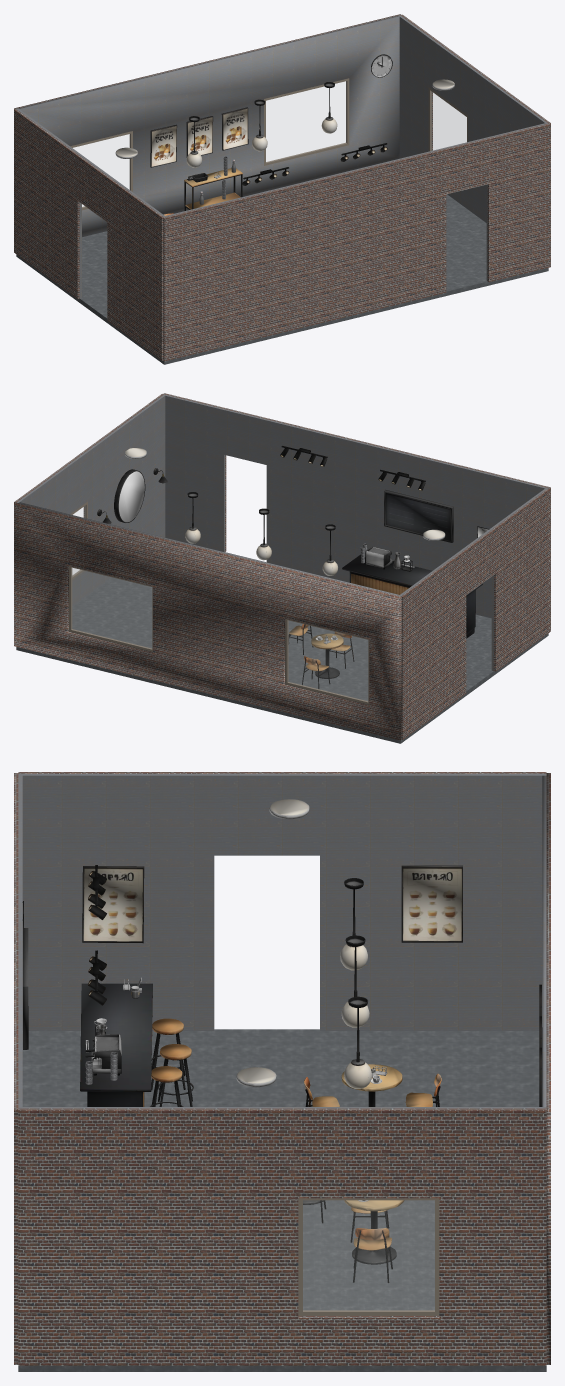
File: scene_named.glb
3 views of the same model, one above another, from view 1: azimuth 30°, elevation 25°; view 2: azimuth 150°, elevation 25°; view 3: azimuth 270°, elevation 25° (orthographic). The views are drawn at different scales.
Visible parts, largest first — view 1: south_wall_exterior_cafe/south_wall_exterior_cafe/geometry_0, north_wall_cafe/north_wall_cafe/geometry_0, west_wall_exterior_cafe/west_wall_exterior_cafe/geometry_0, east_wall_cafe/east_wall_cafe/geometry_0, floor_cafe, window_2_cafe/window_2_cafe/glass, window_3_cafe/window_3_cafe/glass, window_1_cafe/window_1_cafe/glass, art_print_0, art_print_2, art_print_1, window_2_cafe/window_2_cafe/frame (+5 smaller); view 2: north_wall_exterior_cafe/north_wall_exterior_cafe/geometry_0, south_wall_cafe/south_wall_cafe/geometry_0, west_wall_exterior_cafe/west_wall_exterior_cafe/geometry_0, floor_cafe, east_wall_cafe/east_wall_cafe/geometry_0, window_2_cafe/window_2_cafe/glass, window_1_cafe/window_1_cafe/glass, chalkboard_menu_panel_0, bar_counter_0, mirror_0, south_wall_exterior_cafe/south_wall_exterior_cafe/geometry_0, window_1_cafe/window_1_cafe/frame (+6 smaller); view 3: east_wall_exterior_cafe/east_wall_exterior_cafe/geometry_0, west_wall_cafe/west_wall_cafe/geometry_0, floor_cafe, window_3_cafe/window_3_cafe/glass, bar_counter_0, poster_print_1, poster_print_0, north_wall_exterior_cafe/north_wall_exterior_cafe/geometry_0, south_wall_exterior_cafe/south_wall_exterior_cafe/geometry_0, window_3_cafe/window_3_cafe/frame, north_wall_cafe/north_wall_cafe/geometry_0, south_wall_cafe/south_wall_cafe/geometry_0 (+12 smaller).
Part boxes in pixels (x1,y1,x2,y2): south_wall_exterior_cafe/south_wall_exterior_cafe/geometry_0: (163,123,550,361); north_wall_cafe/north_wall_cafe/geometry_0: (19,16,399,237); west_wall_exterior_cafe/west_wall_exterior_cafe/geometry_0: (14,109,163,360); east_wall_cafe/east_wall_cafe/geometry_0: (399,15,548,222); floor_cafe: (16,194,548,364); window_2_cafe/window_2_cafe/glass: (266,81,345,161); window_3_cafe/window_3_cafe/glass: (431,91,466,150); window_1_cafe/window_1_cafe/glass: (73,134,129,206); art_print_0: (150,124,177,167); art_print_2: (221,107,248,150); art_print_1: (186,116,213,157); window_2_cafe/window_2_cafe/frame: (264,78,349,165); north_wall_exterior_cafe/north_wall_exterior_cafe/geometry_0: (14,502,401,740); south_wall_cafe/south_wall_cafe/geometry_0: (165,395,545,618); west_wall_exterior_cafe/west_wall_exterior_cafe/geometry_0: (401,488,550,739); floor_cafe: (16,552,548,743); east_wall_cafe/east_wall_cafe/geometry_0: (16,394,165,606); window_2_cafe/window_2_cafe/glass: (72,568,151,648); window_1_cafe/window_1_cafe/glass: (288,620,367,701); chalkboard_menu_panel_0: (384,490,453,542); bar_counter_0: (342,554,482,638); mirror_0: (114,469,145,522); south_wall_exterior_cafe/south_wall_exterior_cafe/geometry_0: (163,393,550,630); window_1_cafe/window_1_cafe/frame: (285,618,369,704); east_wall_exterior_cafe/east_wall_exterior_cafe/geometry_0: (18,1108,546,1365); west_wall_cafe/west_wall_cafe/geometry_0: (18,774,546,1030); floor_cafe: (18,1029,546,1371); window_3_cafe/window_3_cafe/glass: (303,1200,434,1310); bar_counter_0: (80,983,152,1106); poster_print_1: (401,865,462,942); poster_print_0: (82,866,144,943); north_wall_exterior_cafe/north_wall_exterior_cafe/geometry_0: (546,773,550,1364); south_wall_exterior_cafe/south_wall_exterior_cafe/geometry_0: (14,773,18,1364); window_3_cafe/window_3_cafe/frame: (298,1198,439,1315); north_wall_cafe/north_wall_cafe/geometry_0: (542,775,546,1106); south_wall_cafe/south_wall_cafe/geometry_0: (18,775,22,1106).
Size of the model in its own units: 9.1 by 3.3 by 6.1.
Materials: 38 (36 with a texture image).
